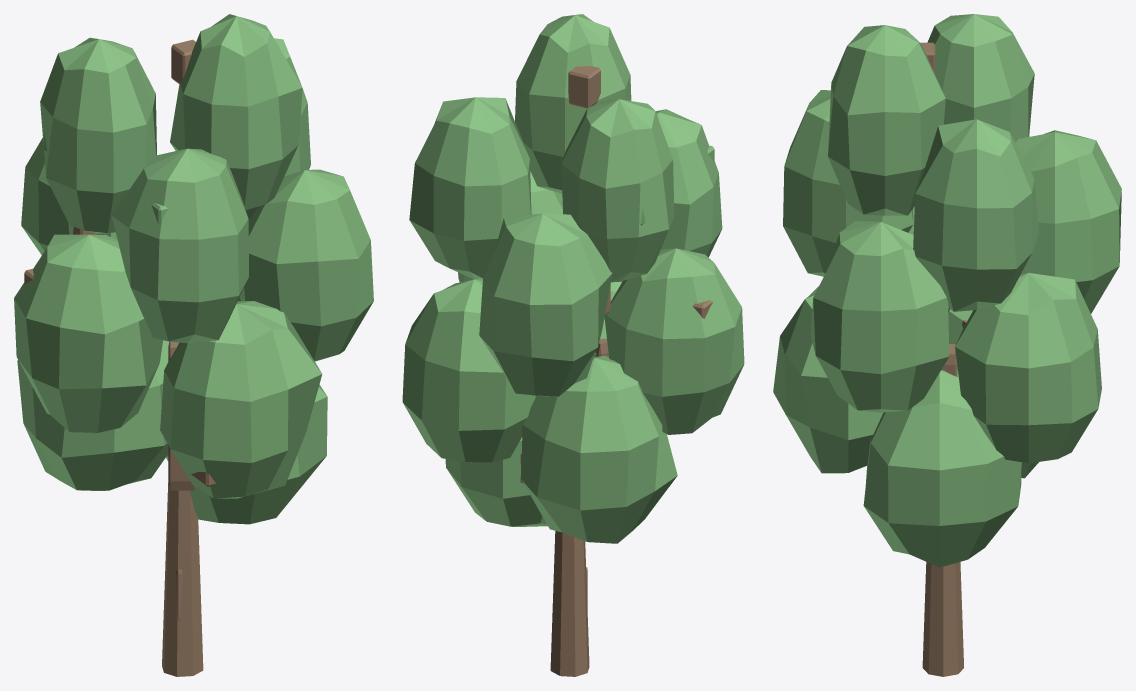
Rendered from b08_tulip_poplar.glb.
3 views of the same model, side by side, from view 1: azimuth 30°, elevation 25°; view 2: azimuth 150°, elevation 25°; view 3: azimuth 270°, elevation 25° (orthographic). The views are drawn at different scales.
Parts seen in each view (by area): view 1: b08_tulip_poplar; view 2: b08_tulip_poplar; view 3: b08_tulip_poplar.
Boxes of the visible parts, x1=… form: b08_tulip_poplar: x1=14, y1=14, x2=373, y2=676; b08_tulip_poplar: x1=402, y1=14, x2=744, y2=676; b08_tulip_poplar: x1=773, y1=14, x2=1121, y2=676.
Size of the model in its own units: 3.71 by 7.45 by 3.6.
